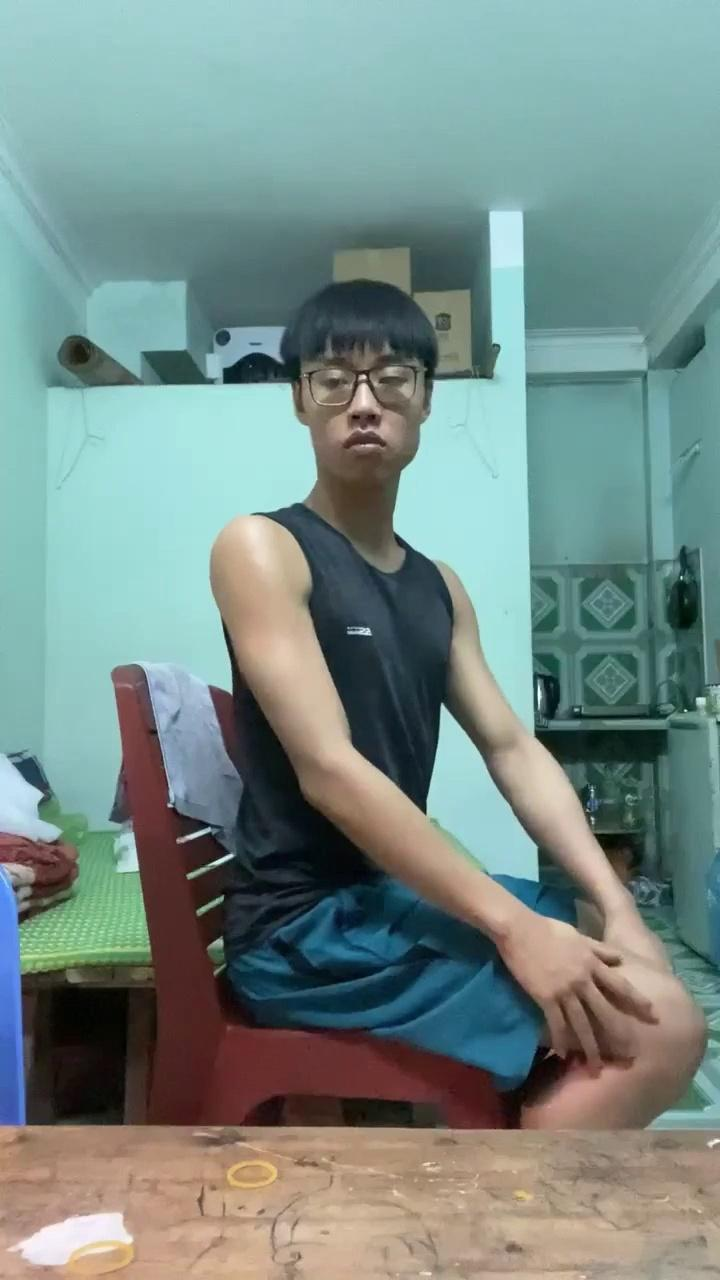GoodPosture: (211, 280, 706, 1130)
